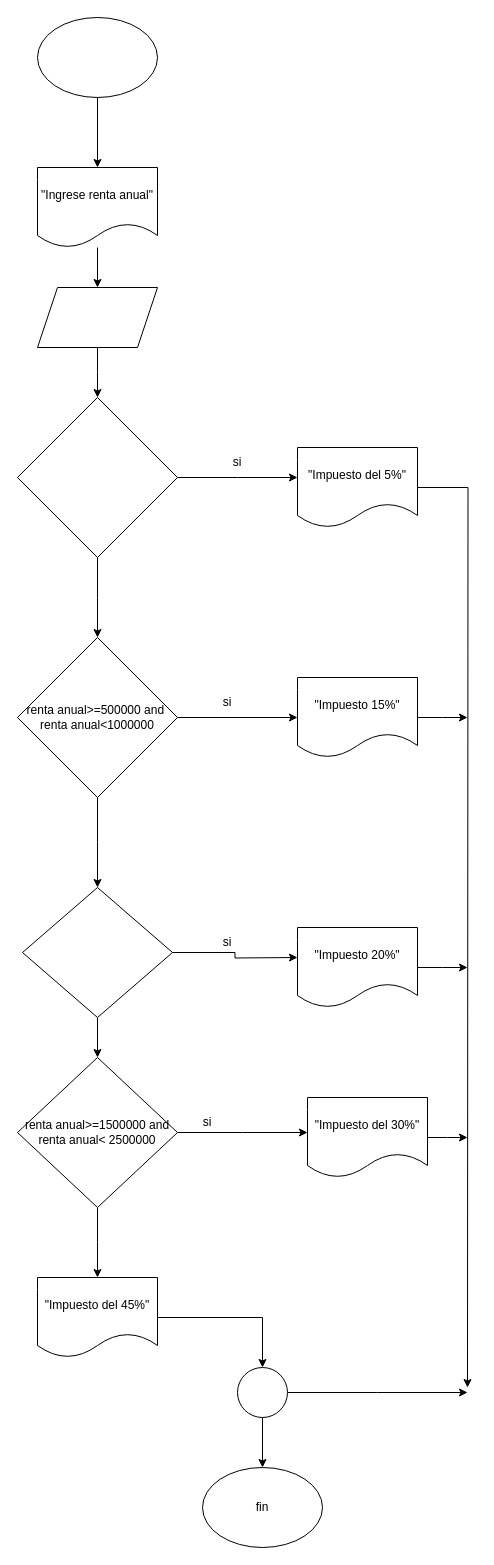
Some shapes in this 494 by 1565 pixel diagram are drawn without their labels. The shapes that lost their labels are listed below. From the top down, each one's centre as x and y in pixels, then its label:
At (x=97, y=57): "Inicio".
At (x=97, y=317): "renta anual".
At (x=97, y=477): "renta anual<500000".
At (x=97, y=952): "renta anual>=1000000 and renta anual<1500000".
